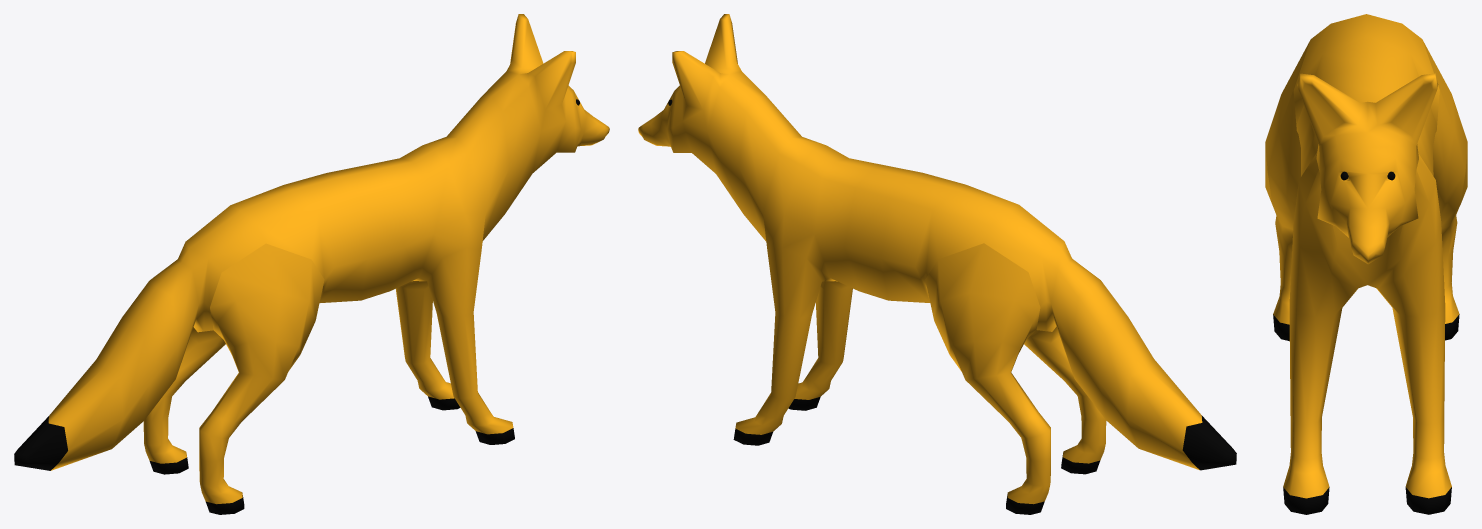
File: ToyObject_057.fbx
3 renders of one model, left to right at view 1: azimuth 30°, elevation 25°; view 2: azimuth 150°, elevation 25°; view 3: azimuth 270°, elevation 25°, orthographic. The views are drawn at different scales.
Parts seen in each view (by area): view 1: 1.027; view 2: 1.027; view 3: 1.027.
Part boxes in pixels (x1,y1,x2,y2): 1.027: (14, 14, 609, 514); 1.027: (638, 14, 1236, 514); 1.027: (1265, 14, 1467, 514).
Size of the model in its own units: 0.2664 by 0.1577 by 0.0608.
